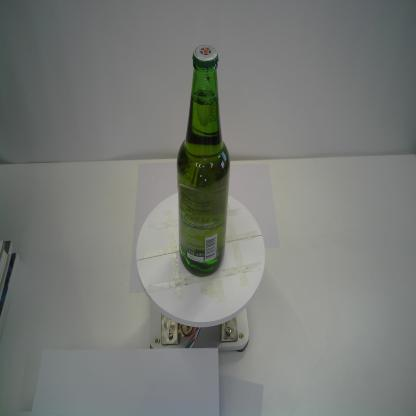Alcohol: (174, 44, 232, 279)
